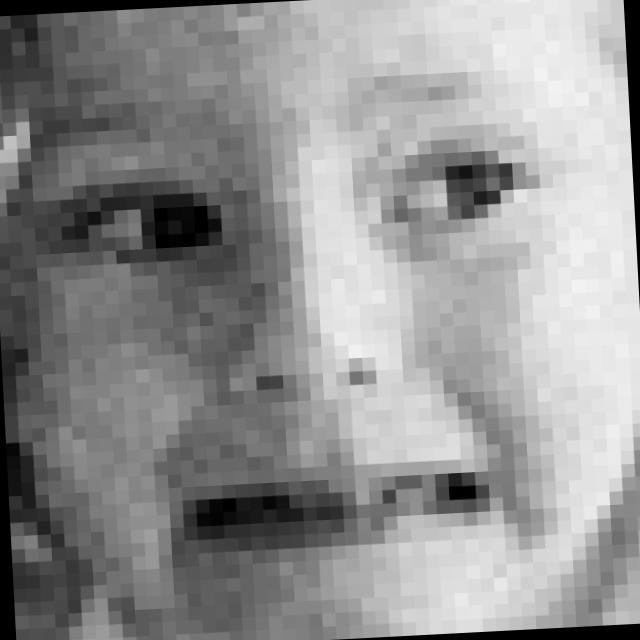fear: (23, 73, 570, 586)
